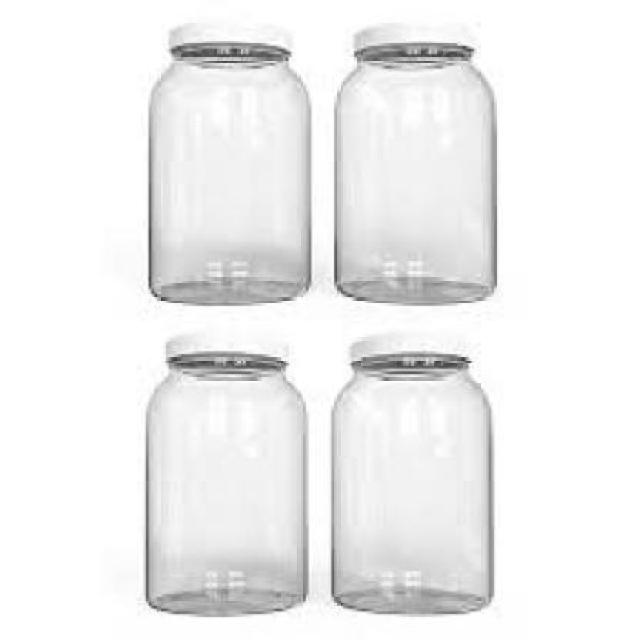kaca: (140, 43, 311, 300), (140, 354, 306, 617), (329, 43, 494, 303), (332, 356, 496, 616)
